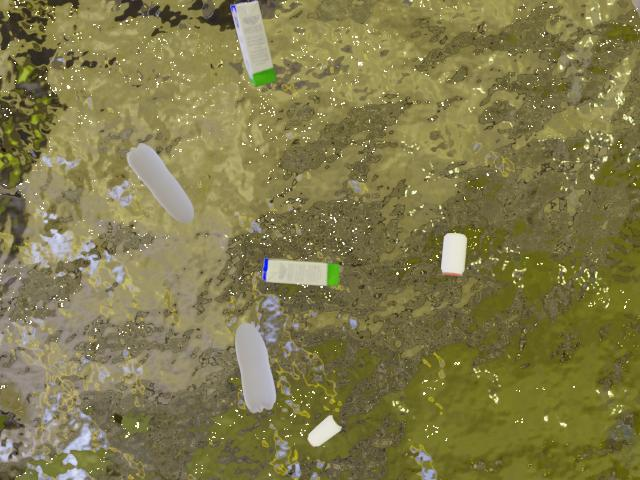Metal: (430, 224, 477, 298), (300, 410, 352, 450)
Plastic: (96, 125, 202, 238), (209, 318, 284, 422)
Trash: (213, 0, 283, 96), (244, 246, 354, 305)
